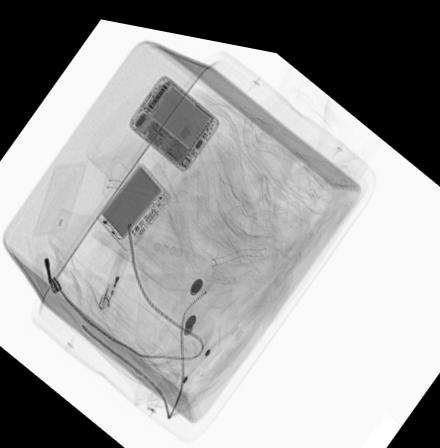Lighter: (96, 241, 133, 304)
